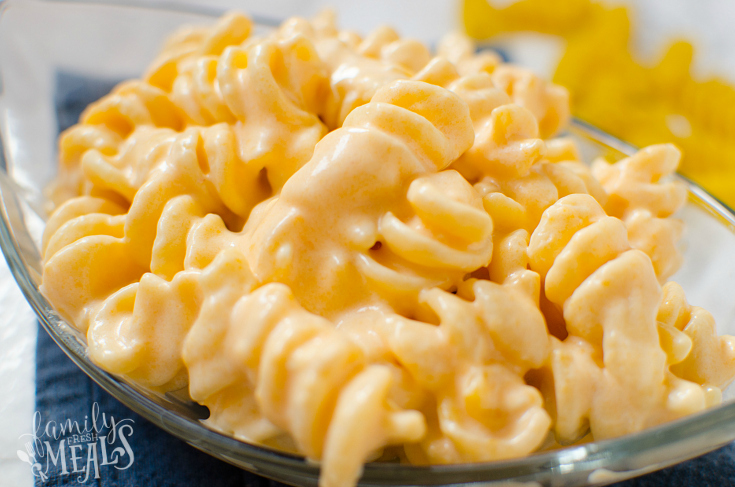macncheese: (32, 11, 672, 400)
